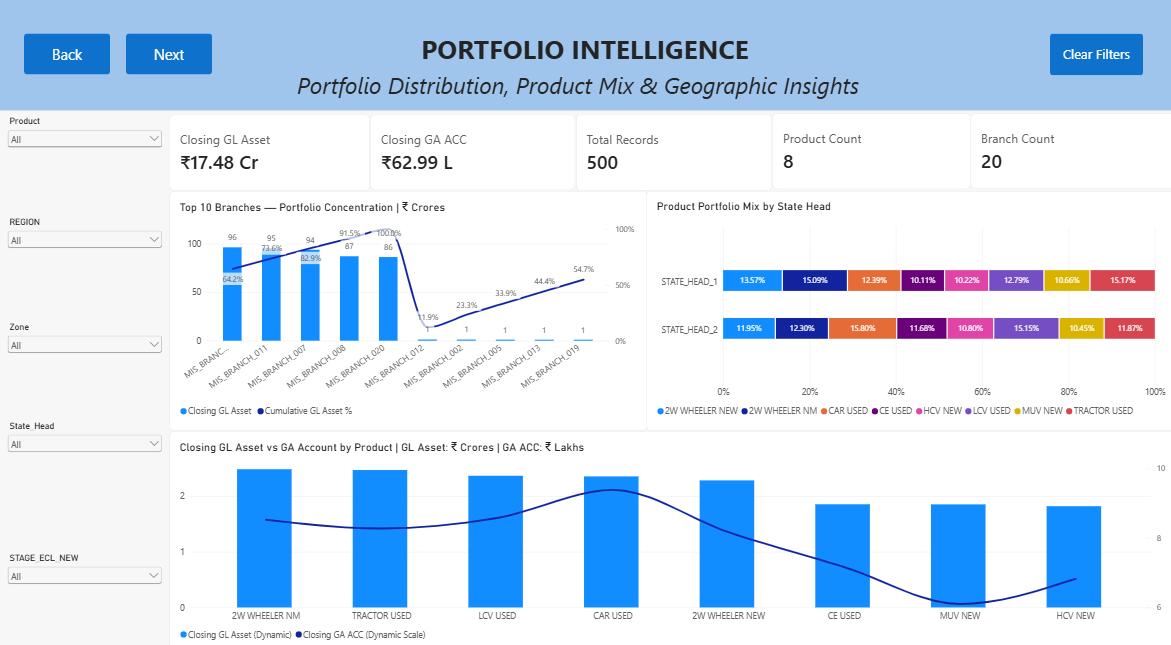

The page's visual inventory and layout, read from the dashboard file:
{"tool":"powerbi","page":{"name":"Portfolio Intelligence","canvas":[1920,1080],"ordinal":4},"visuals":[{"type":"textbox","box":[0,0,1920,195.7],"z":0},{"type":"textbox","box":[615,65,683.2,65.2],"z":1000},{"type":"textbox","box":[487.5,130,1072.5,60],"z":2000},{"type":"slicer","fields":{"Values":["Dummy_Data.Product"]},"box":[11.3,204.1,260.8,164.4],"z":3000},{"type":"slicer","fields":{"Values":["Dummy_Data.REGION"]},"box":[11.3,368.5,260.8,170.1],"z":4000},{"type":"slicer","fields":{"Values":["Dummy_Data.Zone"]},"box":[11.3,538.6,260.8,178.6],"z":5000},{"type":"slicer","fields":{"Values":["Dummy_Data.State_Head"]},"box":[12.5,700,260.8,178.6],"z":6000},{"type":"slicer","fields":{"Values":["Dummy_Data.STAGE_ECL_NEW"]},"box":[12.5,915,260,165],"z":7000},{"type":"cardVisual","fields":{"Data":["Dummy_Data.Branch Count"]},"box":[1582.5,200,336.7,123.3],"z":8000},{"type":"cardVisual","fields":{"Data":["Dummy_Data.Closing GA ACC (Adaptive)"]},"box":[607.5,202.5,333.3,123.3],"z":9000},{"type":"cardVisual","fields":{"Data":["Dummy_Data.Total Records"]},"box":[941.8,202.5,319.6,124.4],"z":10000},{"type":"cardVisual","fields":{"Data":["Dummy_Data.Closing GL Asset (Adaptive)"]},"box":[280.6,202.5,326.9,124.4],"z":11000},{"type":"cardVisual","fields":{"Data":["Dummy_Data.Product Count"]},"box":[1261.4,200.1,322.1,124.4],"z":12000},{"type":"lineClusteredColumnComboChart","fields":{"Category":["Dummy_Data.MIS_Branch"],"Y":["Dummy_Data.Closing GL Asset (Dynamic Scale)"],"Y2":["Dummy_Data.Cumulative GL Asset %"]},"box":[279.9,327.4,777.2,389.8],"z":13000},{"type":"hundredPercentStackedBarChart","title":"Product Portfolio Mix by State Head","fields":{"Category":["Dummy_Data.State_Head"],"Series":["Dummy_Data.Product"],"Y":["Dummy_Data.Closing GL Asset Chart"]},"box":[1057,327.4,862.1,389.8],"z":14000},{"type":"lineClusteredColumnComboChart","fields":{"Category":["Dummy_Data.Product"],"Y":["Dummy_Data.Closing GL Asset (Dynamic Scale)"],"Y2":["Dummy_Data.Closing GA ACC (Dynamic Scale)"]},"box":[279.9,717.2,1639.3,362.3],"z":15000},{"type":"actionButton","box":[43.3,70,140,66.7],"z":15001},{"type":"actionButton","box":[210,70,140,66.7],"z":15002},{"type":"actionButton","box":[1712.8,70.8,151.3,68.3],"z":15003}]}

Visuals, with their boxes in screenshot pixels (x1, y1, x2, y2), scaled from the page's 1920x1080 canvas onto the 1171x645 screenshot:
textbox: <region>0, 0, 1170, 117</region>
textbox: <region>375, 39, 792, 78</region>
textbox: <region>297, 78, 951, 113</region>
slicer - Dummy_Data.Product: <region>7, 122, 166, 220</region>
slicer - Dummy_Data.REGION: <region>7, 220, 166, 322</region>
slicer - Dummy_Data.Zone: <region>7, 322, 166, 428</region>
slicer - Dummy_Data.State_Head: <region>8, 418, 167, 525</region>
slicer - Dummy_Data.STAGE_ECL_NEW: <region>8, 546, 166, 644</region>
cardVisual - Dummy_Data.Branch Count: <region>965, 119, 1170, 193</region>
cardVisual - Dummy_Data.Closing GA ACC (Adaptive): <region>371, 121, 574, 195</region>
cardVisual - Dummy_Data.Total Records: <region>574, 121, 769, 195</region>
cardVisual - Dummy_Data.Closing GL Asset (Adaptive): <region>171, 121, 371, 195</region>
cardVisual - Dummy_Data.Product Count: <region>769, 120, 966, 194</region>
lineClusteredColumnComboChart - Dummy_Data.MIS_Branch x Dummy_Data.Closing GL Asset (Dynamic Scale): <region>171, 196, 645, 428</region>
"Product Portfolio Mix by State Head" hundredPercentStackedBarChart: <region>645, 196, 1170, 428</region>
lineClusteredColumnComboChart - Dummy_Data.Product x Dummy_Data.Closing GL Asset (Dynamic Scale): <region>171, 428, 1170, 644</region>
actionButton: <region>26, 42, 112, 82</region>
actionButton: <region>128, 42, 213, 82</region>
actionButton: <region>1045, 42, 1137, 83</region>
